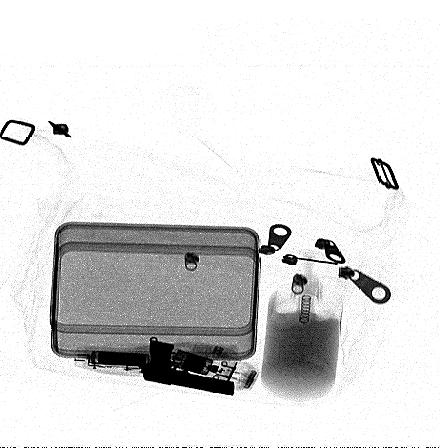Gun: (135, 339, 235, 399)
